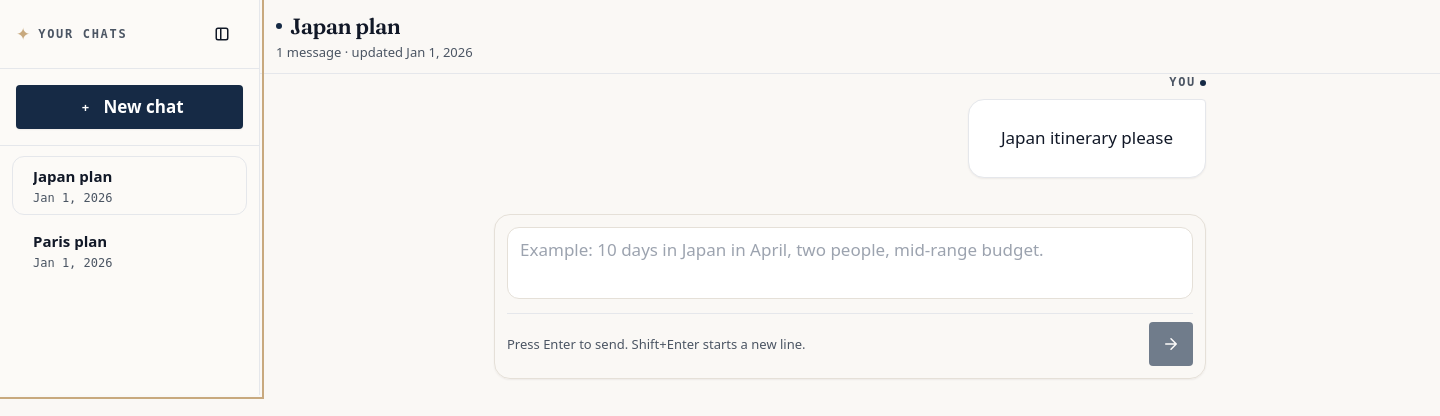
Test: Chat route (multi-conversation management) › switches conversations and updates the rendered thread and h1
Expected: the text "Japan itinerary please" is shown, [1001,124,1173,153]
Expected: the text "Paris itinerary please" is not shown
Click the button "Paris plan Jan 1, 2026" at (86, 251), box [21,222,150,280]
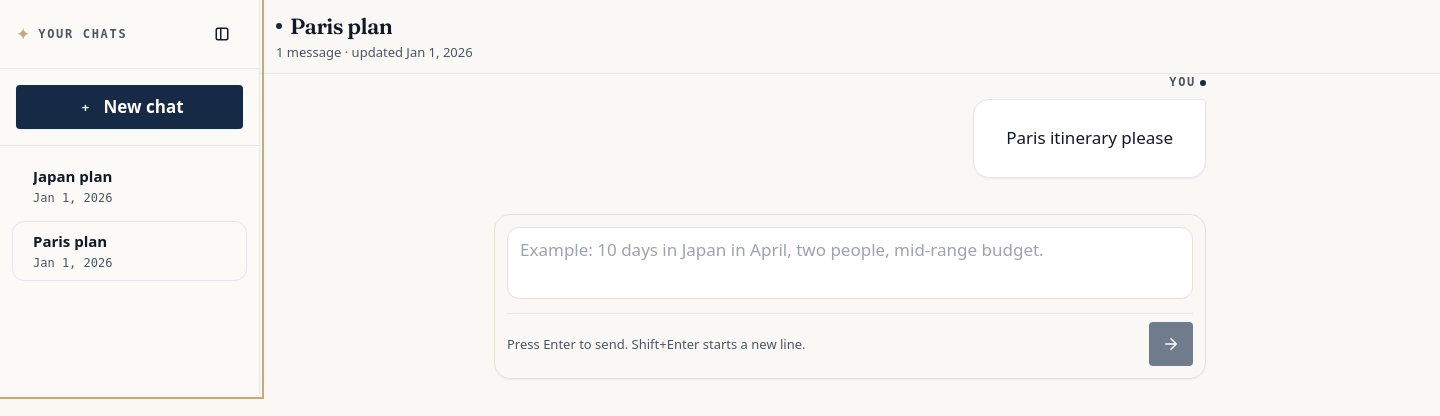
Now the text "Paris itinerary please" is shown, box [1006,124,1173,153]
Now the text "Japan itinerary please" is gone
Now the heading reads "Paris plan", box [290,12,392,40]
